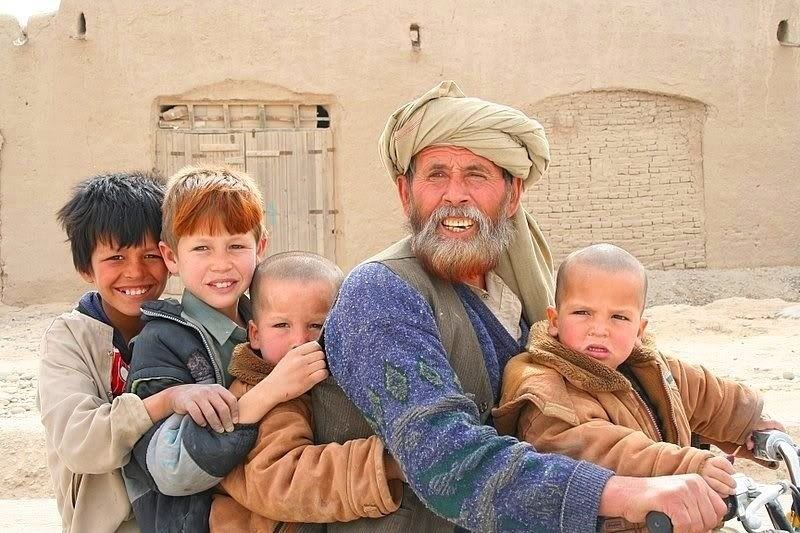face_no_mask: (393, 96, 527, 273), (158, 166, 265, 312), (73, 176, 169, 318), (547, 244, 647, 374), (247, 250, 344, 369)
